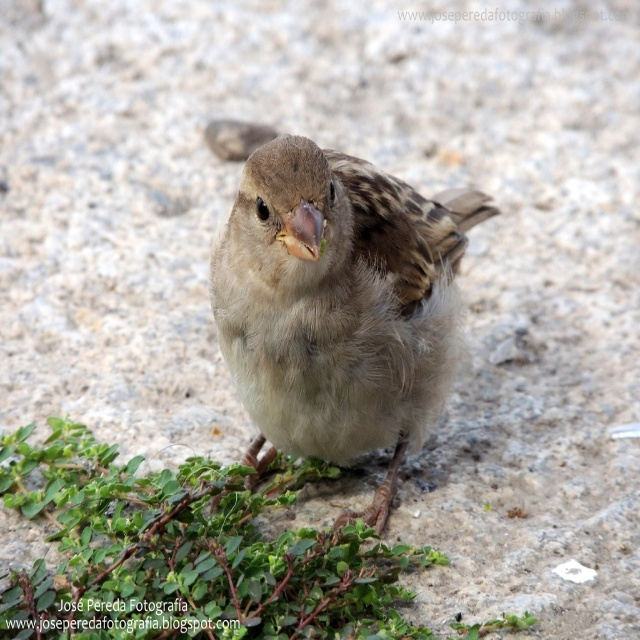Sparrow: (208, 133, 499, 535)
